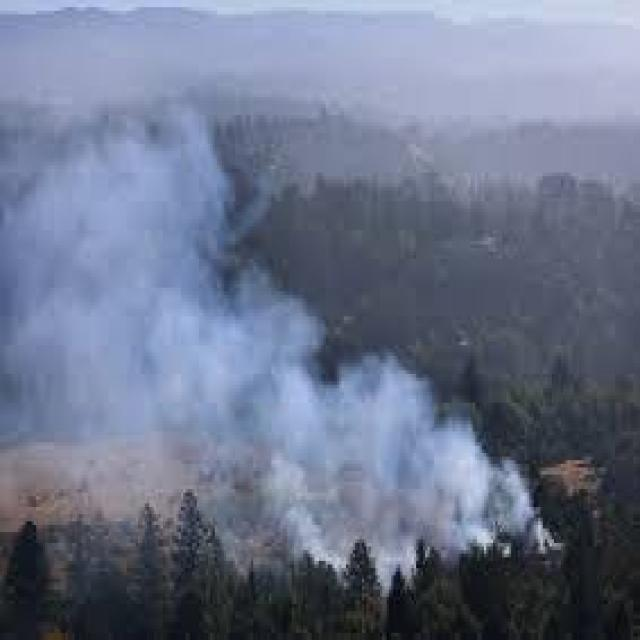Smoke: (0, 106, 255, 502), (242, 358, 552, 568)
